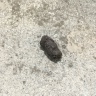Dog: (40, 35, 62, 62)
